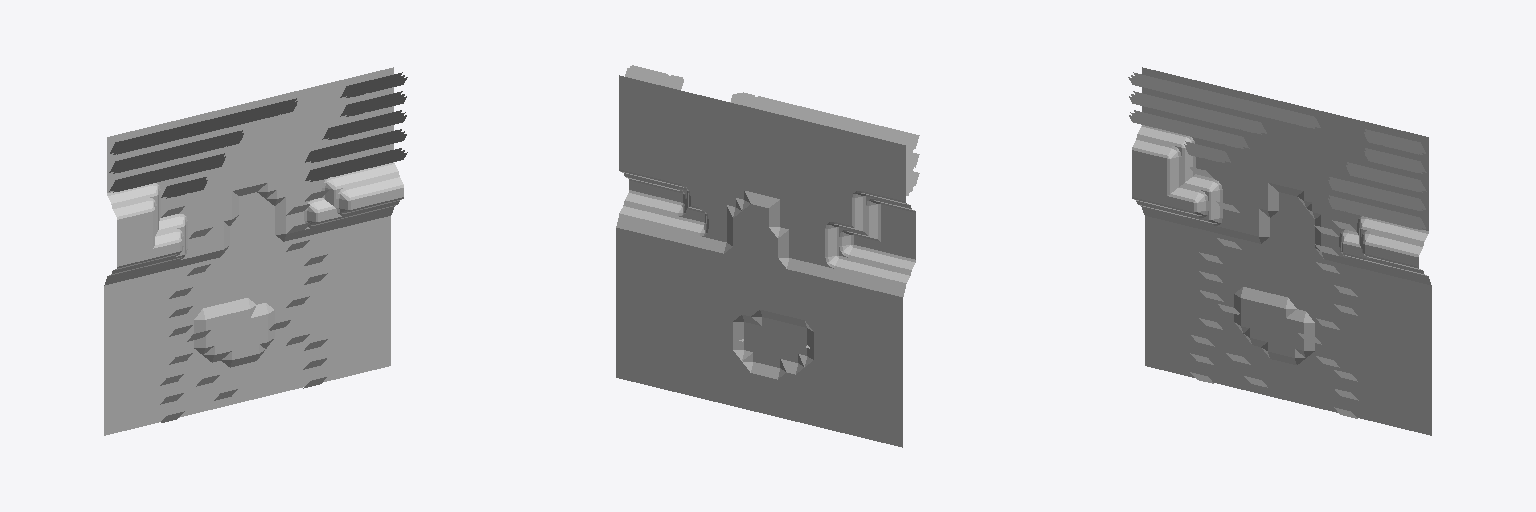
Rendered from Plat_full_04_21.obj.
3 renders of one model, left to right at view 1: azimuth 30°, elevation 25°; view 2: azimuth 150°, elevation 25°; view 3: azimuth 330°, elevation 25°, orthographic.
Visible parts, largest first — view 1: map; view 2: map; view 3: map.
Part boxes in pixels (bbox=[...]): map: bbox=[104, 67, 407, 435]; map: bbox=[616, 65, 919, 447]; map: bbox=[1128, 67, 1431, 435].
Size of the model in its own units: 32 by 32.12 by 3.14.